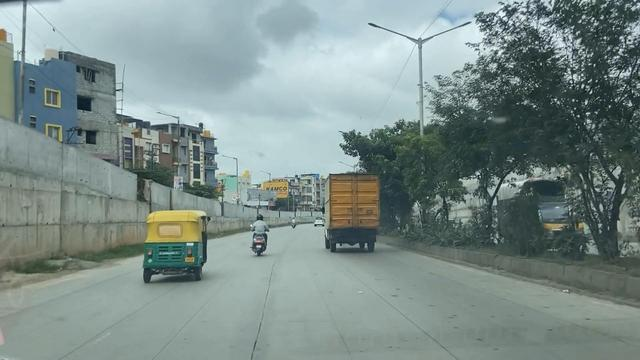HMV: (488, 169, 588, 254), (317, 161, 388, 265)
